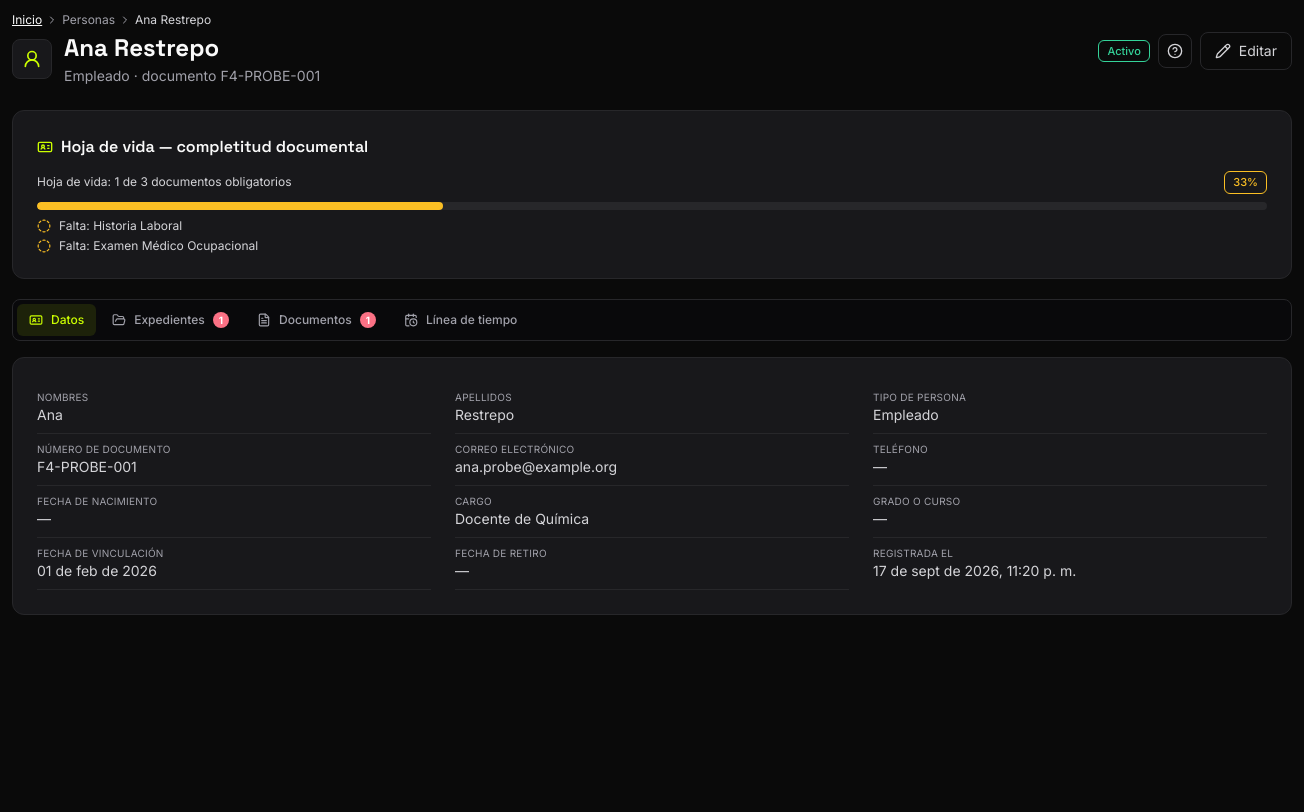
Ficha de persona › ofrece un estado vacío honesto cuando no hay eventos registrados
The width and height of the screenshot is (1304, 812).
Expected: the element showing "Datos Expedientes 1 Documentos 1 Línea de tiempo" is shown, [12,298,1292,340]
Click the tab "Línea de tiempo": (461, 320) [392,304,529,336]
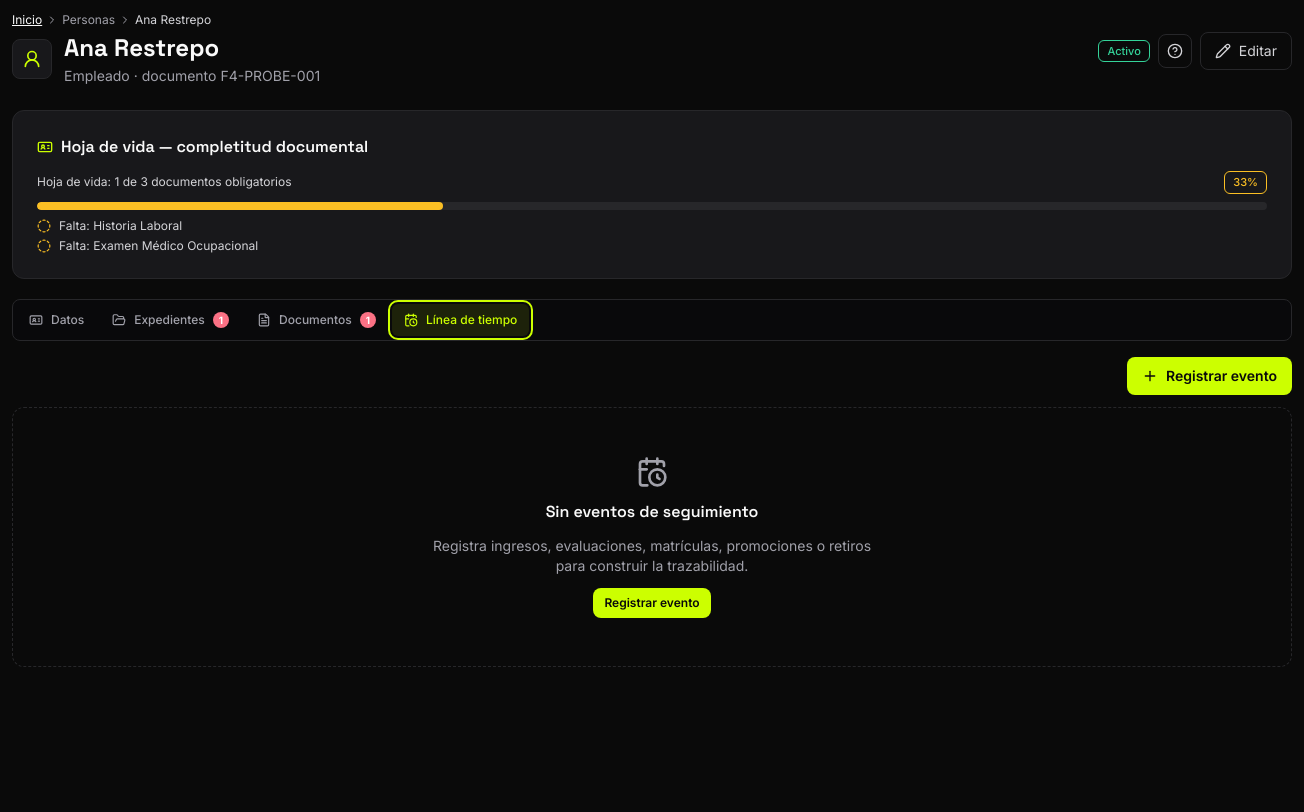
Result: the heading "Sin eventos de seguimiento" is shown at [546,500,758,524]
